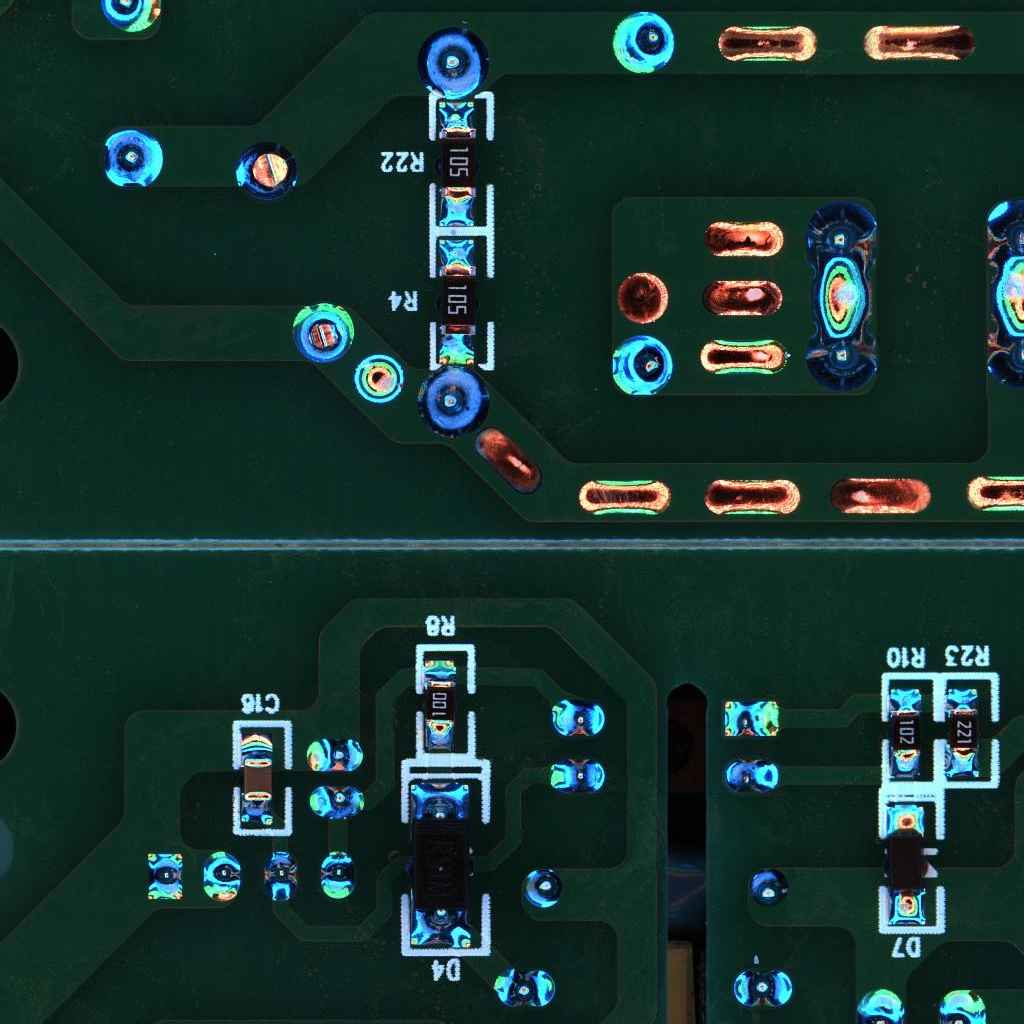spot: (412, 363, 494, 442), (803, 199, 883, 274), (416, 25, 493, 98), (803, 321, 881, 392), (609, 7, 678, 77), (288, 300, 357, 367), (608, 332, 675, 400), (232, 139, 301, 201), (101, 128, 167, 191), (983, 195, 1024, 273), (351, 351, 407, 407), (732, 966, 795, 1010), (492, 967, 558, 1009), (981, 325, 1024, 386), (722, 697, 779, 742), (549, 696, 607, 739), (303, 738, 366, 775), (306, 783, 368, 820), (546, 759, 608, 795), (201, 848, 242, 902), (317, 848, 357, 903), (144, 850, 184, 904), (261, 850, 300, 905), (854, 986, 909, 1024), (97, 1, 162, 33), (725, 759, 781, 795), (749, 868, 793, 910), (520, 867, 564, 909), (937, 988, 988, 1024)
